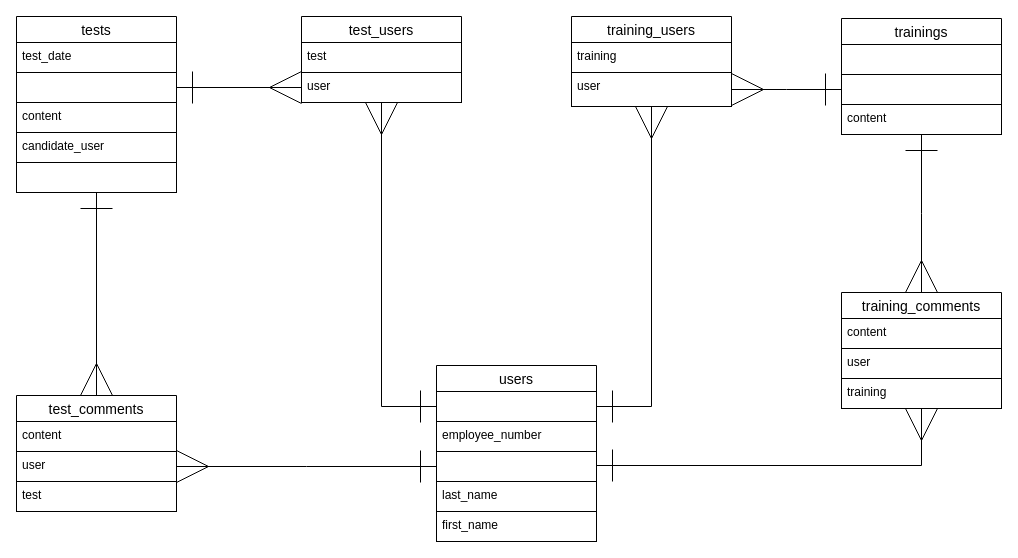
Some shapes in this 1018 by 558 pixel diagram are drawn without their labels. Here are the shapes that lost their labels. From the top down, the centre of each, then its label:
At point (921, 59): "training_date".
At point (96, 87): "category_test_id".
At point (921, 89): "category_training_id".
At point (96, 177): "director_user".
At point (516, 406): "email".
At point (516, 466): "encrypted_password".
